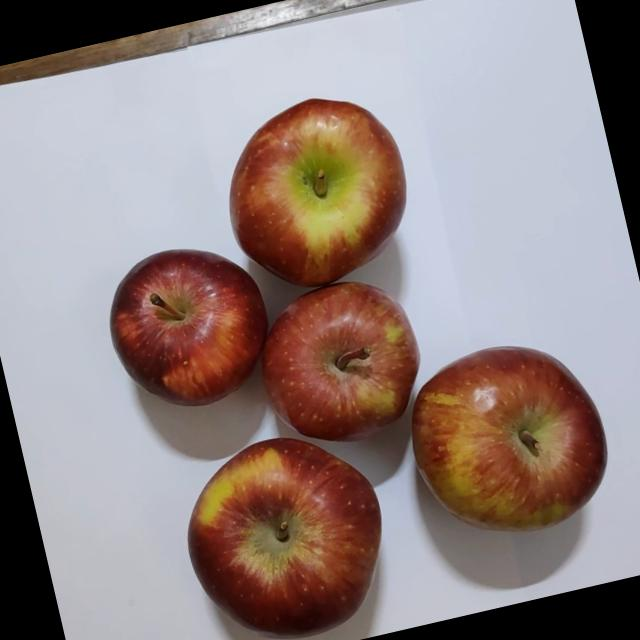apple: (388, 322, 634, 560), (166, 414, 413, 640), (206, 78, 431, 308), (243, 266, 444, 463), (93, 230, 287, 428)
